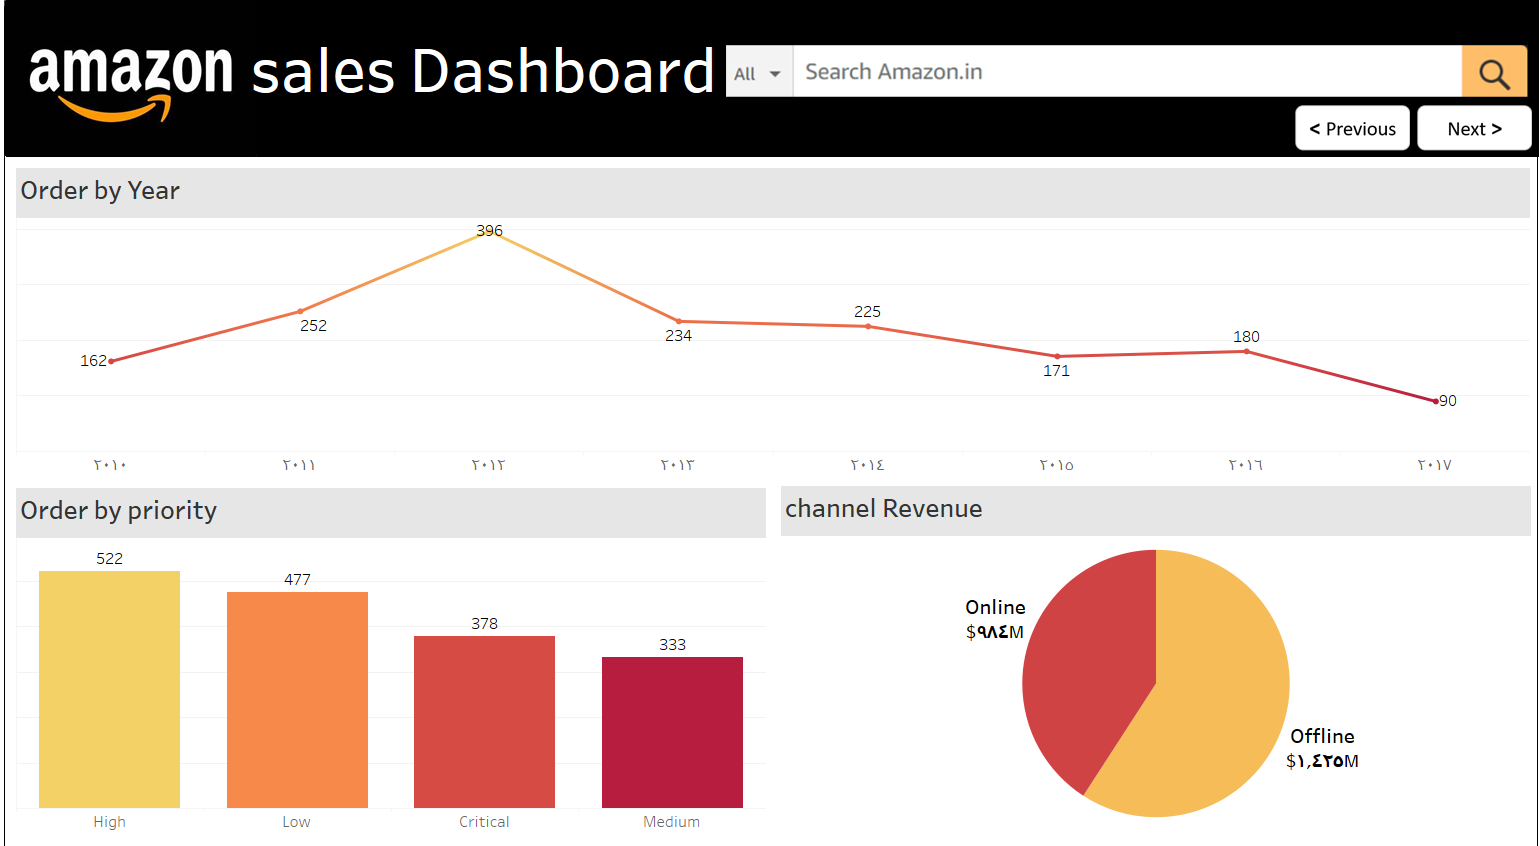

This screenshot's page, from the dashboard's own definition file:
{"tool":"tableau","page":{"name":"Order analysis","canvas":[1000,1000],"units":"permille","ordinal":1},"visuals":[{"type":"image","param":"Image/OIP (1).jpeg","box":[5.2,2.3,165.2,181.4]},{"type":"image","param":"Image/Picture5.png","box":[471,14,517.4,141.9]},{"type":"dashboard-object","box":[838.1,122.1,74.2,64]},{"type":"dashboard-object","box":[916.8,122.1,74.2,64]},{"type":"worksheet","title":"Order by Year","mark":"Automatic","rows":["Order ID"],"cols":["Order Date"],"box":[12.9,197.7,976.8,358.1]},{"type":"worksheet","title":"channel Revenue ","mark":"Pie","box":[506.4,567.4,483.9,401.2]},{"type":"worksheet","title":"Order by priority","mark":"Automatic","rows":["Order ID"],"cols":["Order Priority"],"box":[12.9,569.8,483.9,401.2]}]}

Visuals, with their boxes on the dashboard's canvas, which has no fixed pixel size, in thousandths of its width and height (x1, y1, x2, y2). These are canvas units, not pixel positions in the 1540x846 screenshot, which may show the page scaled, cropped or inside an application window:
image: region(5, 2, 170, 184)
image: region(471, 14, 988, 156)
dashboard-object: region(838, 122, 912, 186)
dashboard-object: region(917, 122, 991, 186)
"Order by Year" worksheet: region(13, 198, 990, 556)
"channel Revenue " worksheet (Pie marks): region(506, 567, 990, 969)
"Order by priority" worksheet: region(13, 570, 497, 971)
